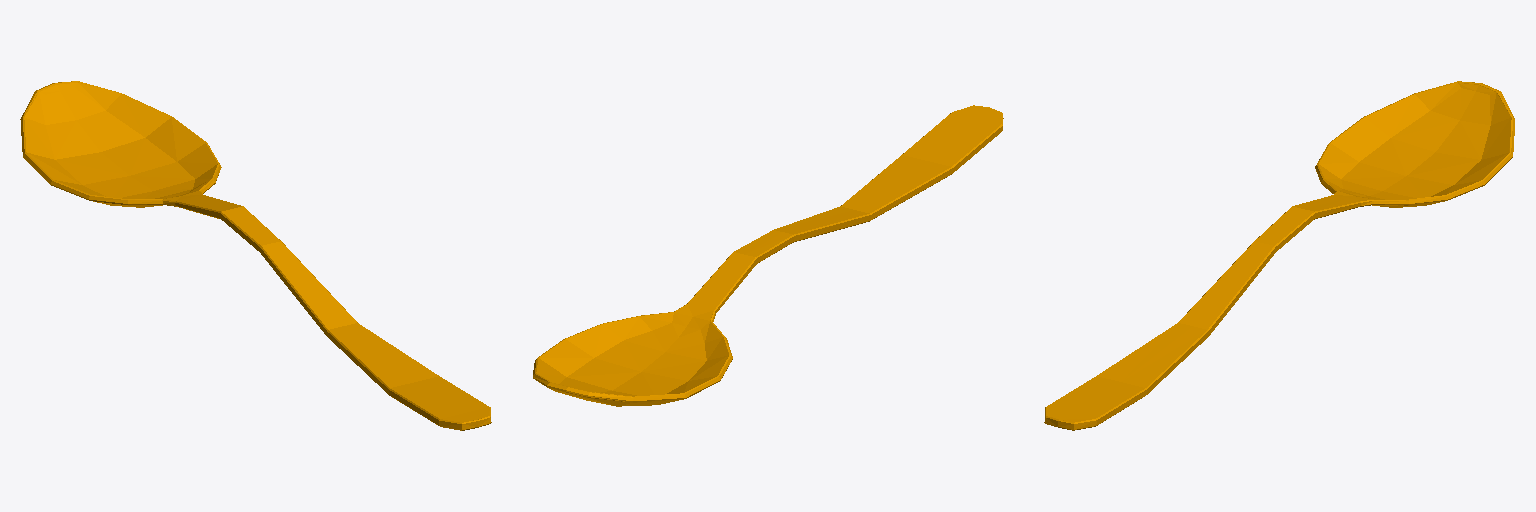
The robot description file, URDF, robot "apple":
<?xml version="0.0" ?>
<robot name="apple">
  <link name="baseLink">
    <contact>
      <lateral_friction value="1.0"/>
      <rolling_friction value="0.0"/>
      <contact_cfm value="0.0"/>
      <contact_erp value="1.0"/>
    </contact>
    <inertial>
      <origin rpy="1.57 0 0" xyz="0.0 0.02 0.0"/>
       <mass value=".1"/>
       <inertia ixx="1" ixy="0" ixz="0" iyy="1" iyz="0" izz="1"/>
    </inertial>
    <visual>
      <origin rpy="1.57 0 0" xyz="0 0 0"/>
      <geometry>
        <mesh filename="meshes/notextures/spoon.obj" scale="0.01 0.01 0.01"/>
      </geometry>

    </visual>
    <collision>
      <origin rpy="1.57 0 0" xyz="0 0 0"/>
      <geometry>
	 	<mesh filename="meshes/notextures/spoon.obj" scale="0.01 0.01 0.01"/>
      </geometry>
    </collision>
  </link>
</robot>

--- Render facts (derived) ---
The picture shows the robot from 3 angles, left to right: view 1: azimuth 30°, elevation 25°; view 2: azimuth 150°, elevation 25°; view 3: azimuth 330°, elevation 25°; orthographic projection.
Robot: apple — 1 links, 0 joints (none); root link baseLink; default pose: every joint at zero.
Links seen in each view (by area): view 1: baseLink; view 2: baseLink; view 3: baseLink.
Link boxes in pixels (x1,y1,x2,y2): baseLink: [20, 81, 491, 430]; baseLink: [533, 105, 1003, 406]; baseLink: [1044, 81, 1514, 430].
Size in the robot's own frame: 0.0305 by 0.1416 by 0.0088 metres.
1 mesh visuals loaded from 1 distinct referenced files (1 OBJ).